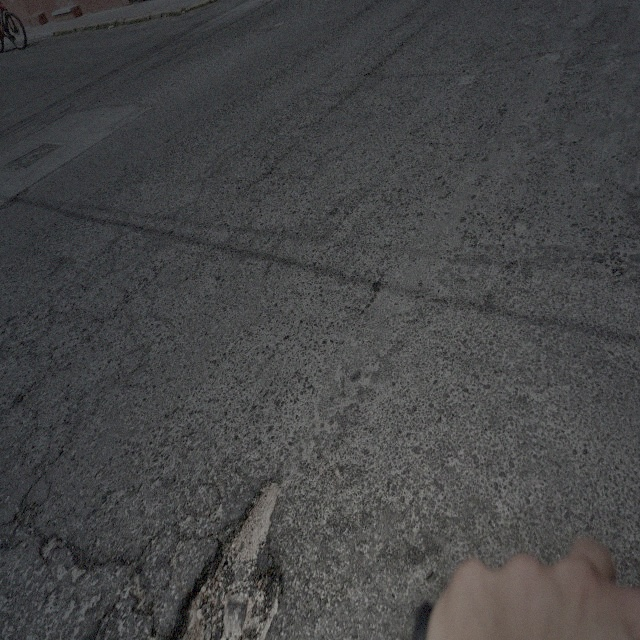pothole: (170, 463, 294, 627), (127, 564, 147, 609), (40, 530, 64, 560)
